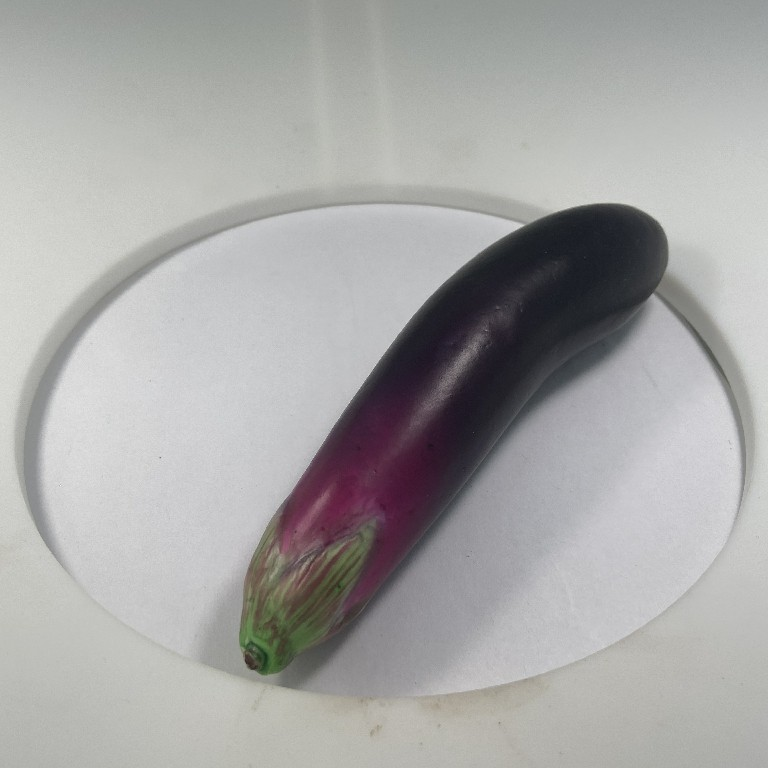fruit_eggplant: (233, 196, 672, 678)
